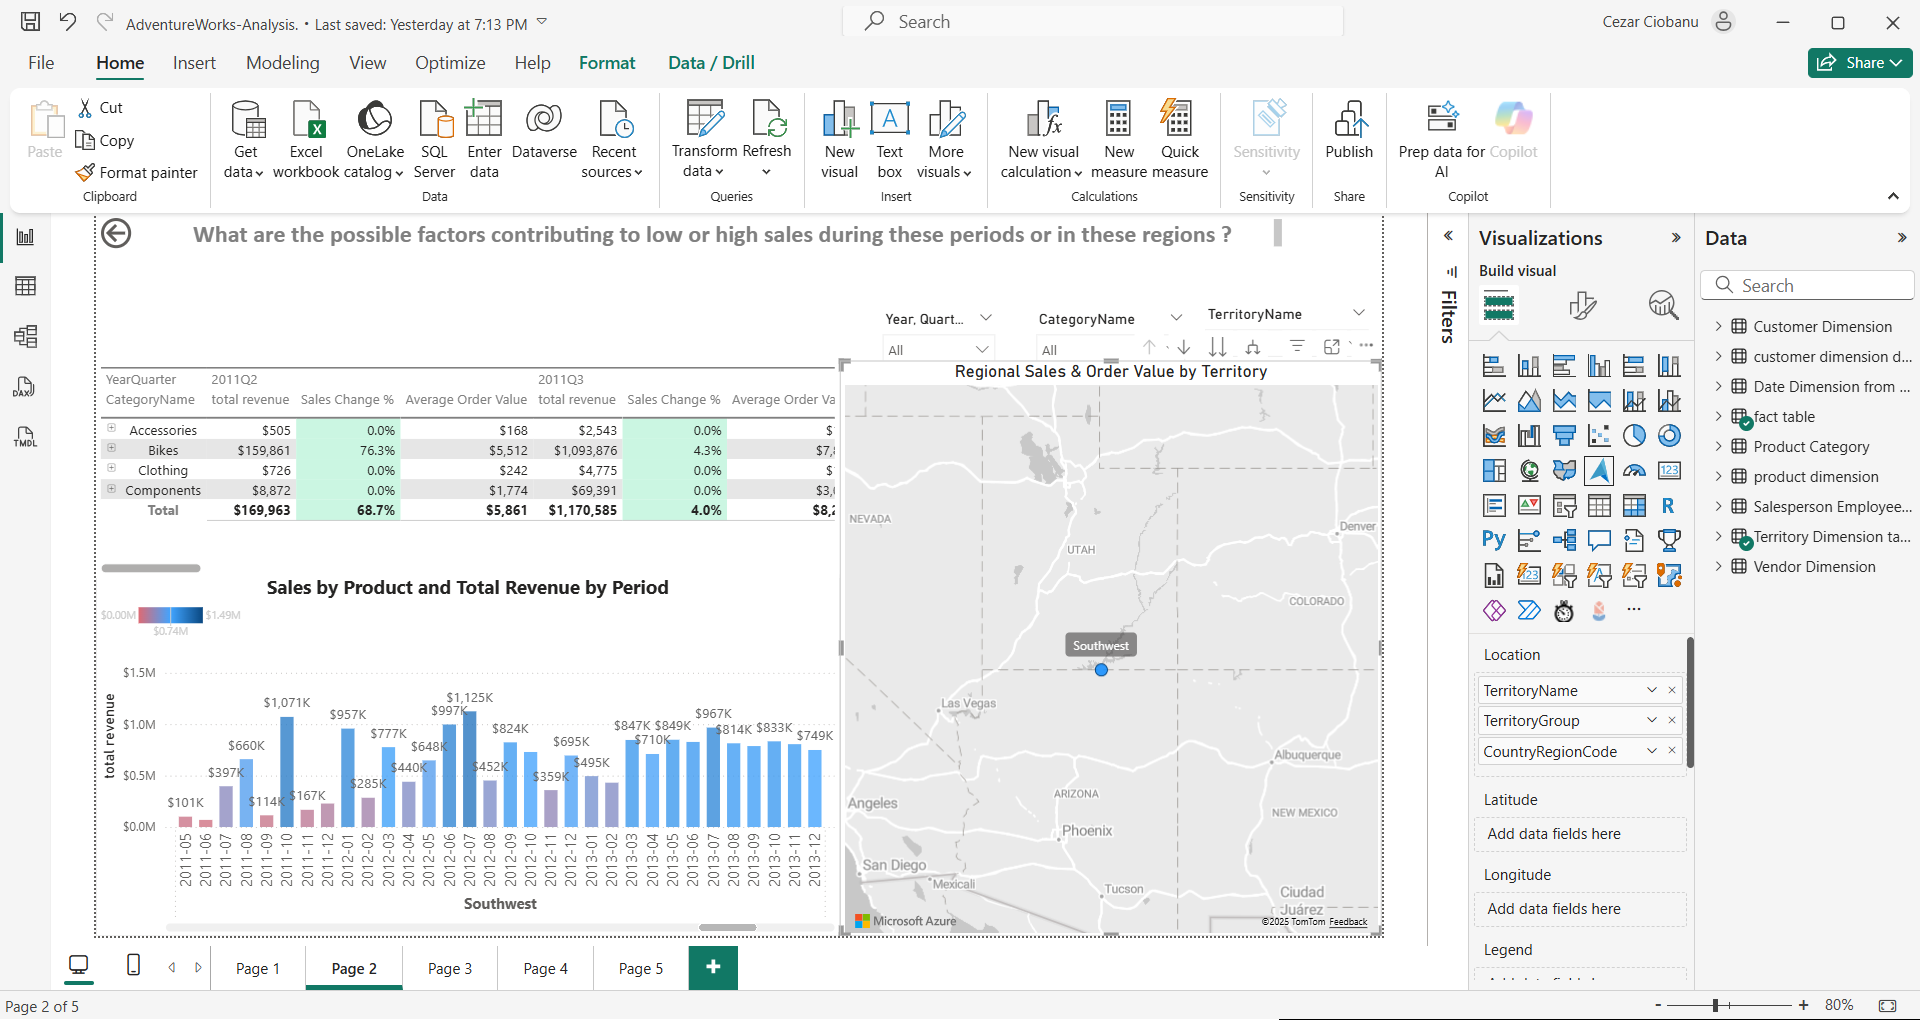

The dashboard page shown, as its layout file describes it:
{"tool":"powerbi","page":{"name":"Page 2","canvas":[1280,720],"ordinal":1},"visuals":[{"type":"columnChart","title":"Sales by Product and Total Revenue by Period","fields":{"Category":["Territory Dimension table.TerritoryName","Date Dimension from orders.Period"],"Y":["fact table.total revenue"]},"box":[0,359.5,740.2,360.7],"z":0},{"type":"slicer","title":"Period","fields":{"Values":["Date Dimension from orders.Year","Date Dimension from orders.Quarter"]},"box":[772.2,92.2,132.2,56.7],"z":1000},{"type":"actionButton","box":[0,0,100,40],"z":2000},{"type":"slicer","fields":{"Values":["Product Category.CategoryName"]},"box":[925,92.5,168.8,55],"z":3000},{"type":"slicer","fields":{"Values":["Territory Dimension table.TerritoryName"]},"box":[1093.8,87.5,182.5,60],"z":4000},{"type":"textbox","box":[50,1.7,1135,38.3],"z":5000},{"type":"pivotTable","fields":{"Rows":["Product Category.CategoryName","product dimension.ProductName"],"Columns":["Date Dimension from orders.YearQuarter"],"Values":["fact table.total revenue","fact table.Sales Change %","fact table.Average Order Value"]},"box":[0,147.5,740,215],"z":6000},{"type":"azureMap","title":"Regional Sales & Order Value by Territory ","fields":{"Category":["Territory Dimension table.TerritoryName","Territory Dimension table.TerritoryGroup","Territory Dimension table.CountryRegionCode"],"Size":["fact table.total revenue"]},"box":[740,146.2,540,573.8],"z":7000}]}

Visuals, with their boxes on the page's 1280x720 design canvas (x1, y1, x2, y2). These are canvas units, not pixel positions in the 1920x1020 screenshot, which may show the page scaled, cropped or inside an application window:
"Sales by Product and Total Revenue by Period" columnChart: {"x1": 0, "y1": 360, "x2": 740, "y2": 720}
"Period" slicer: {"x1": 772, "y1": 92, "x2": 904, "y2": 149}
actionButton: {"x1": 0, "y1": 0, "x2": 100, "y2": 40}
slicer - Product Category.CategoryName: {"x1": 925, "y1": 92, "x2": 1094, "y2": 148}
slicer - Territory Dimension table.TerritoryName: {"x1": 1094, "y1": 88, "x2": 1276, "y2": 148}
textbox: {"x1": 50, "y1": 2, "x2": 1185, "y2": 40}
pivotTable - Product Category.CategoryName x product dimension.ProductName: {"x1": 0, "y1": 148, "x2": 740, "y2": 362}
"Regional Sales & Order Value by Territory " azureMap: {"x1": 740, "y1": 146, "x2": 1280, "y2": 720}
